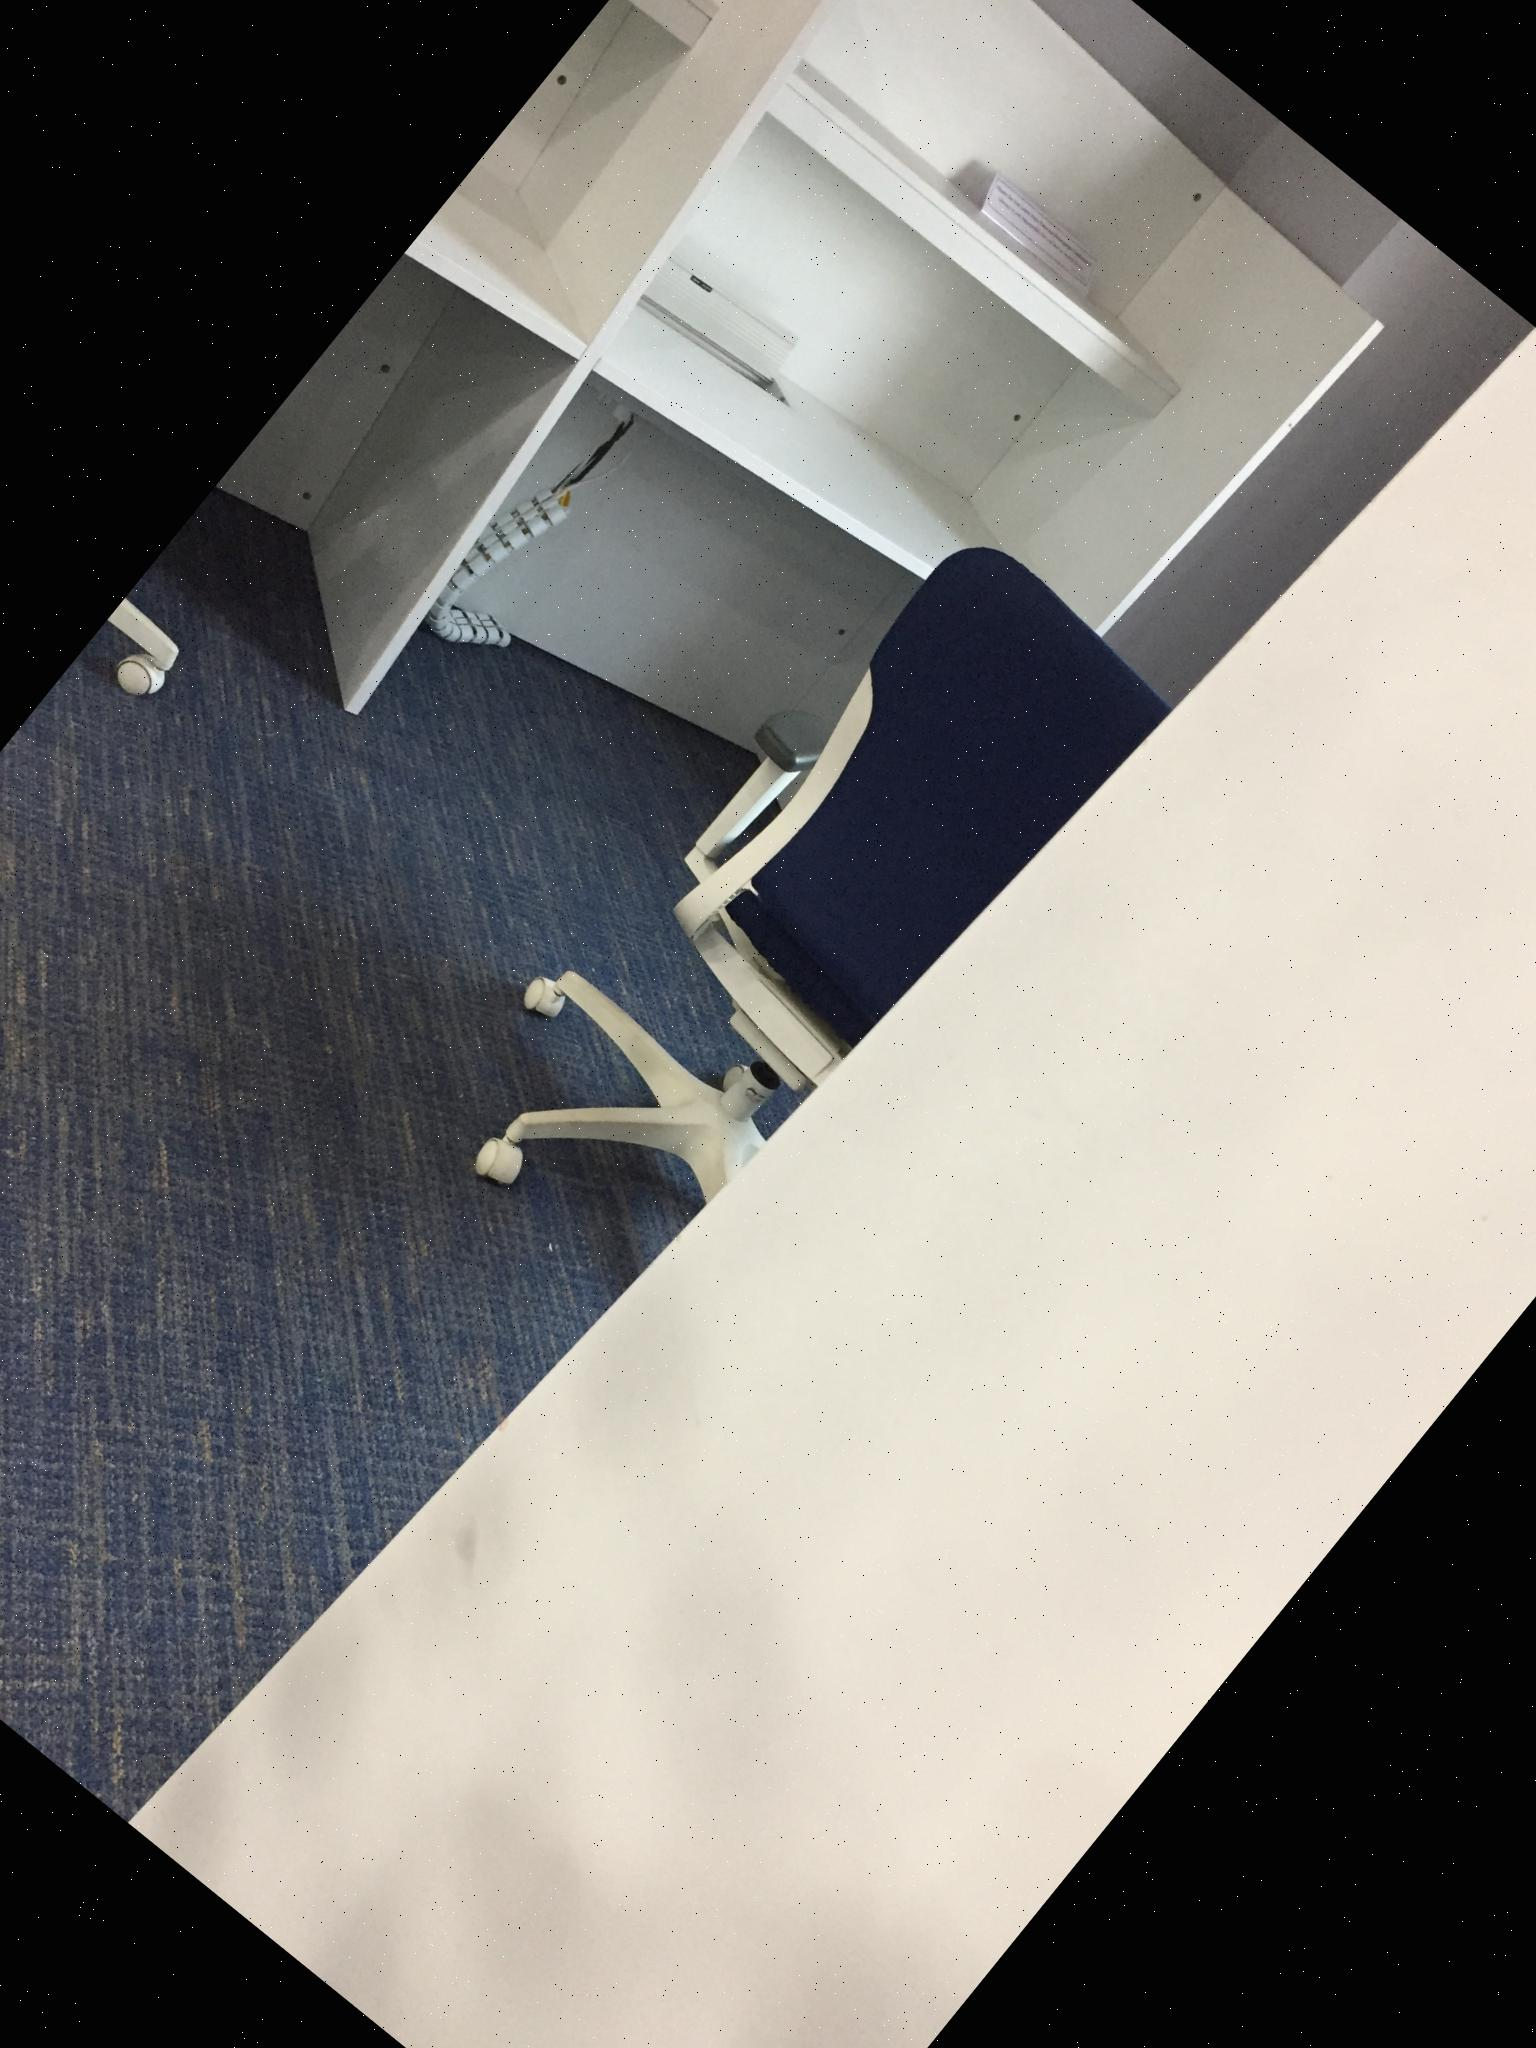chair: (415, 487, 1186, 1330)
